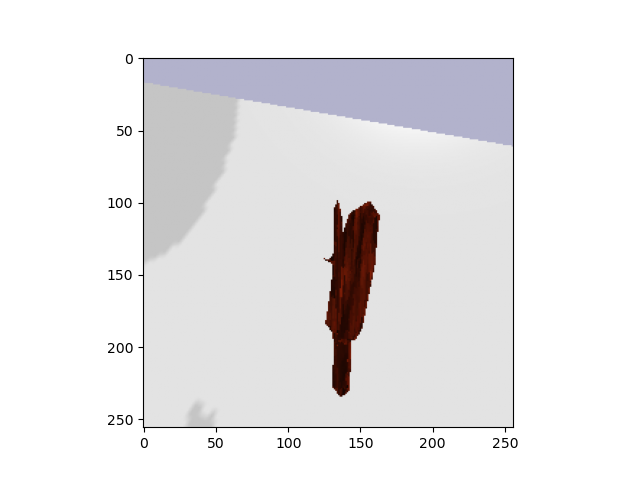v249b387_107: (314, 190, 391, 394)
